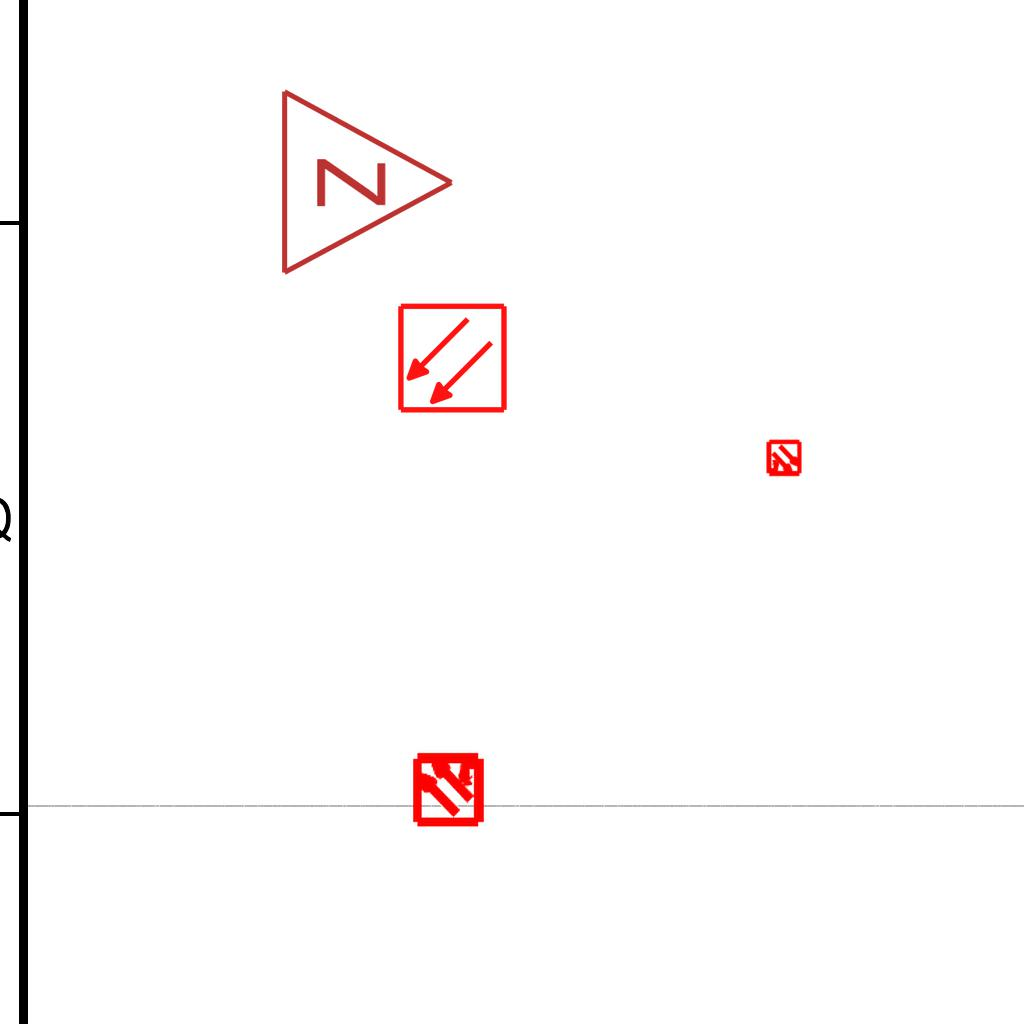OT_Multisensormelder_(Kombination_RMO_WMD): (392, 731, 505, 844), (756, 431, 812, 487)
RMO_Rauchmelder_optischer: (396, 302, 509, 415)
Zimmersignalleuchte: (267, 82, 467, 278)
